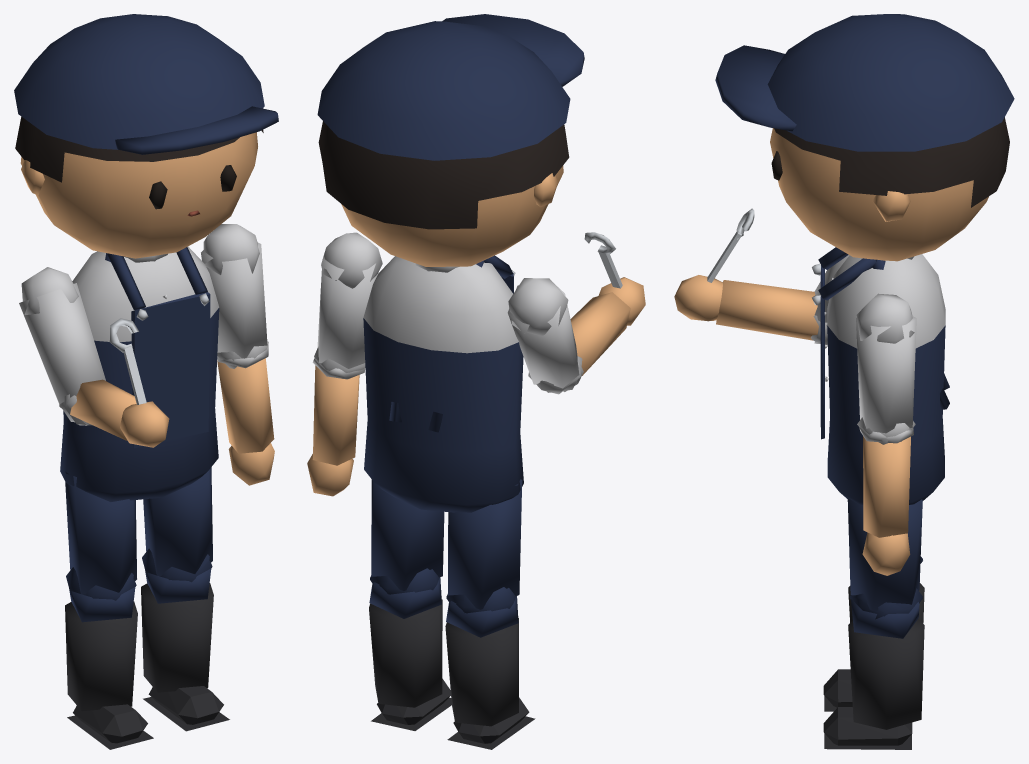
The model's file is east_mechanic.glb.
The picture shows the model from 3 angles, left to right: view 1: azimuth 30°, elevation 25°; view 2: azimuth 150°, elevation 25°; view 3: azimuth 270°, elevation 25°; orthographic projection.
Parts seen in each view (by area): view 1: head, body, shin_L, shin_R, arm_R, leg_R, arm_L, leg_L, forearm_L, forearm_R, prop_wrench; view 2: head, body, shin_R, shin_L, leg_R, arm_L, leg_L, arm_R, forearm_L, forearm_R, prop_wrench; view 3: head, body, shin_L, arm_L, forearm_R, forearm_L, leg_L, shin_R, prop_wrench.
Part boxes in pixels (bbox=[...]): head: bbox=[14, 14, 278, 258]; body: bbox=[60, 246, 219, 501]; shin_L: bbox=[141, 558, 229, 731]; shin_R: bbox=[65, 576, 153, 749]; arm_R: bbox=[19, 267, 105, 425]; leg_R: bbox=[65, 471, 136, 600]; arm_L: bbox=[201, 224, 268, 368]; leg_L: bbox=[142, 467, 212, 582]; forearm_L: bbox=[217, 341, 274, 485]; forearm_R: bbox=[62, 379, 169, 447]; prop_wrench: bbox=[109, 318, 146, 404]; head: bbox=[317, 14, 584, 266]; body: bbox=[363, 255, 523, 512]; shin_R: bbox=[445, 588, 535, 749]; shin_L: bbox=[369, 569, 451, 730]; leg_R: bbox=[446, 479, 522, 613]; arm_L: bbox=[314, 232, 382, 378]; leg_L: bbox=[370, 479, 444, 594]; arm_R: bbox=[507, 278, 582, 394]; forearm_L: bbox=[307, 358, 365, 496]; forearm_R: bbox=[540, 277, 645, 392]; prop_wrench: bbox=[584, 232, 622, 288]; head: bbox=[715, 14, 1014, 261]; body: bbox=[812, 247, 949, 504]; shin_L: bbox=[823, 588, 924, 749]; arm_L: bbox=[856, 293, 916, 444]; forearm_R: bbox=[674, 275, 827, 344]; forearm_L: bbox=[859, 427, 913, 575]; leg_L: bbox=[847, 498, 922, 619]; shin_R: bbox=[823, 556, 924, 711]; prop_wrench: bbox=[707, 208, 754, 282].
Bounding box in the file's own units: 0.5589 × 1.48 × 0.6523.
